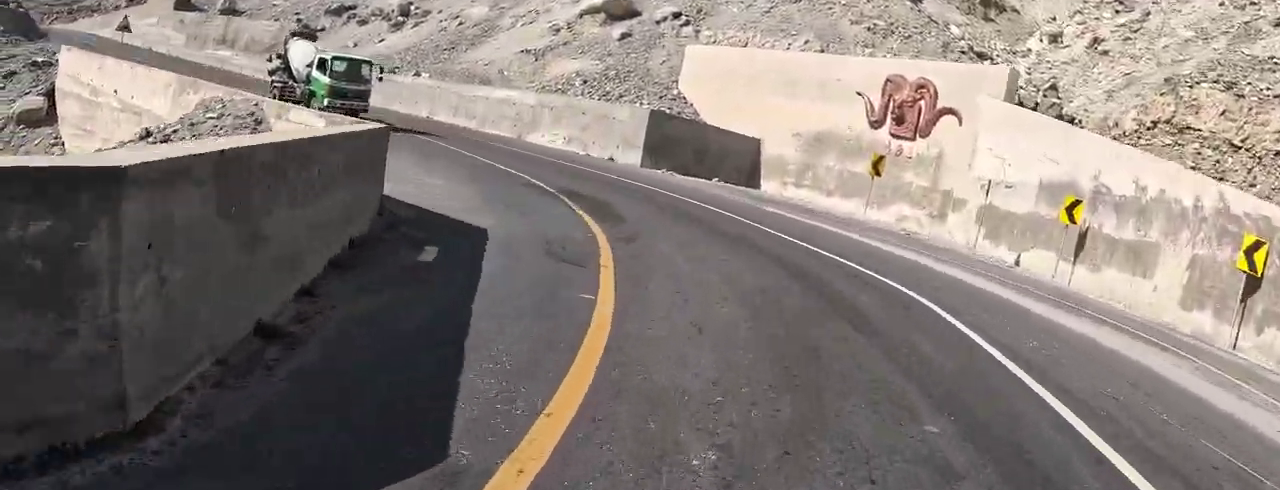right: (476, 101, 1252, 442)
